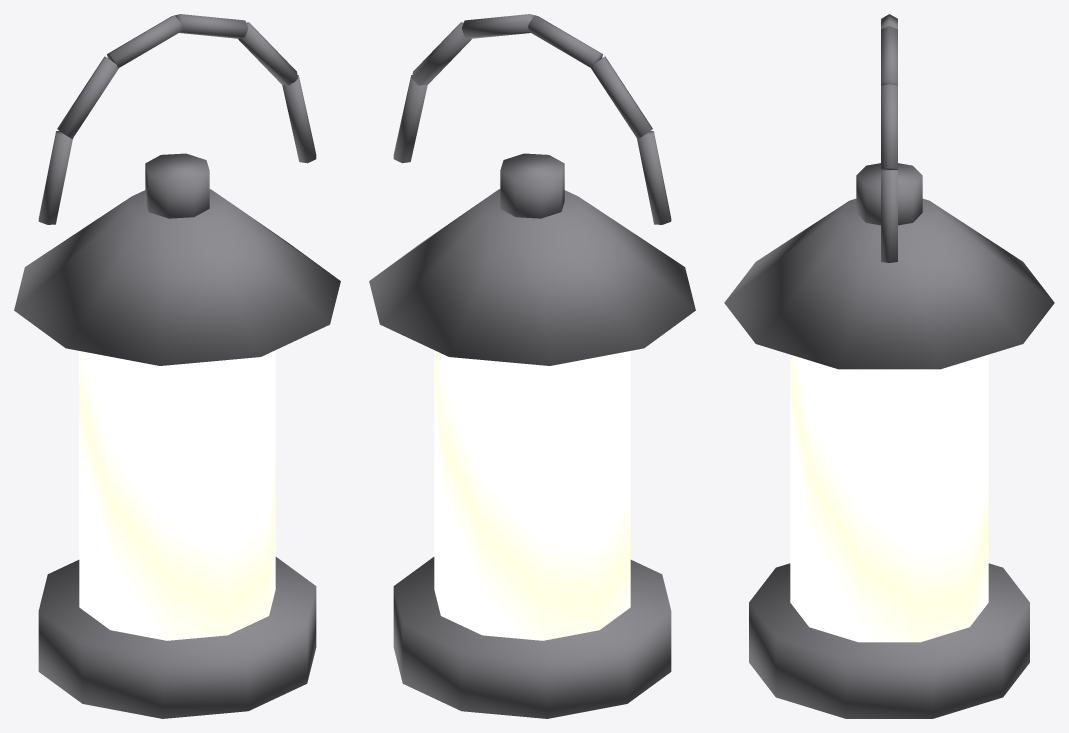
File: lantern.glb
The picture shows the model from 3 angles, left to right: view 1: azimuth 30°, elevation 25°; view 2: azimuth 150°, elevation 25°; view 3: azimuth 270°, elevation 25°; orthographic projection.
Visible parts, largest first — view 1: lantern; view 2: lantern; view 3: lantern.
Part boxes in pixels (box(x1,y1,x2,y2)): lantern: box(14, 14, 340, 718); lantern: box(369, 14, 695, 718); lantern: box(724, 14, 1054, 718).
Bounding box in the file's own units: 0.1917 × 0.4257 × 0.2.
